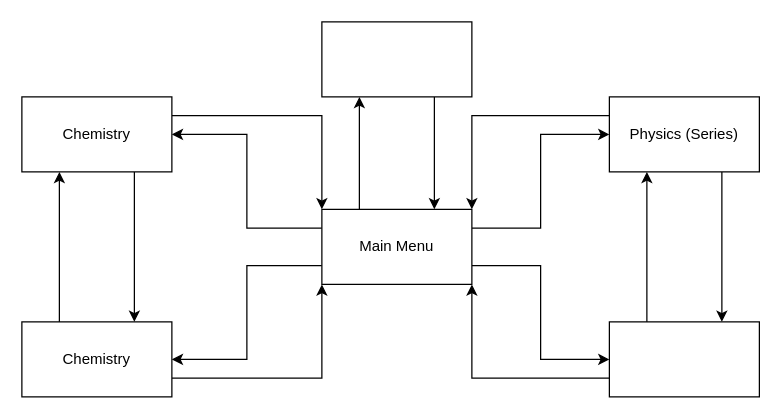
This 781x419 diagram has some shape labels left out. Each missing label, with the centre of its shape:
"Biology" belongs at pixel 396 59.
"Physics (Parallel)" belongs at pixel 683 359.
